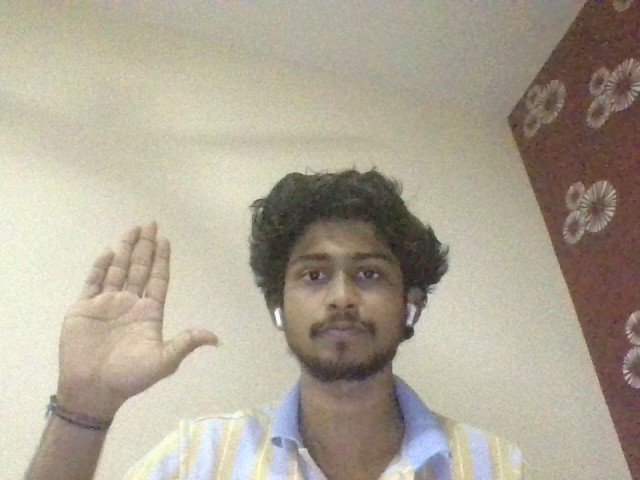hello: (53, 217, 223, 410)
